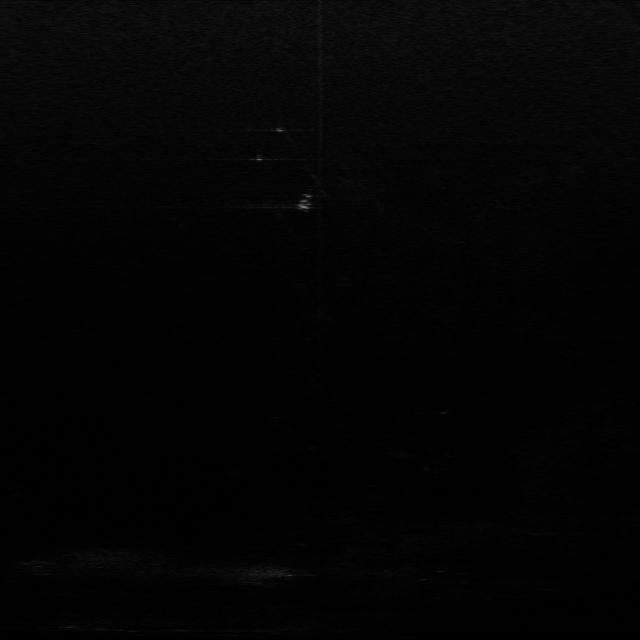rov: (292, 190, 318, 214)
